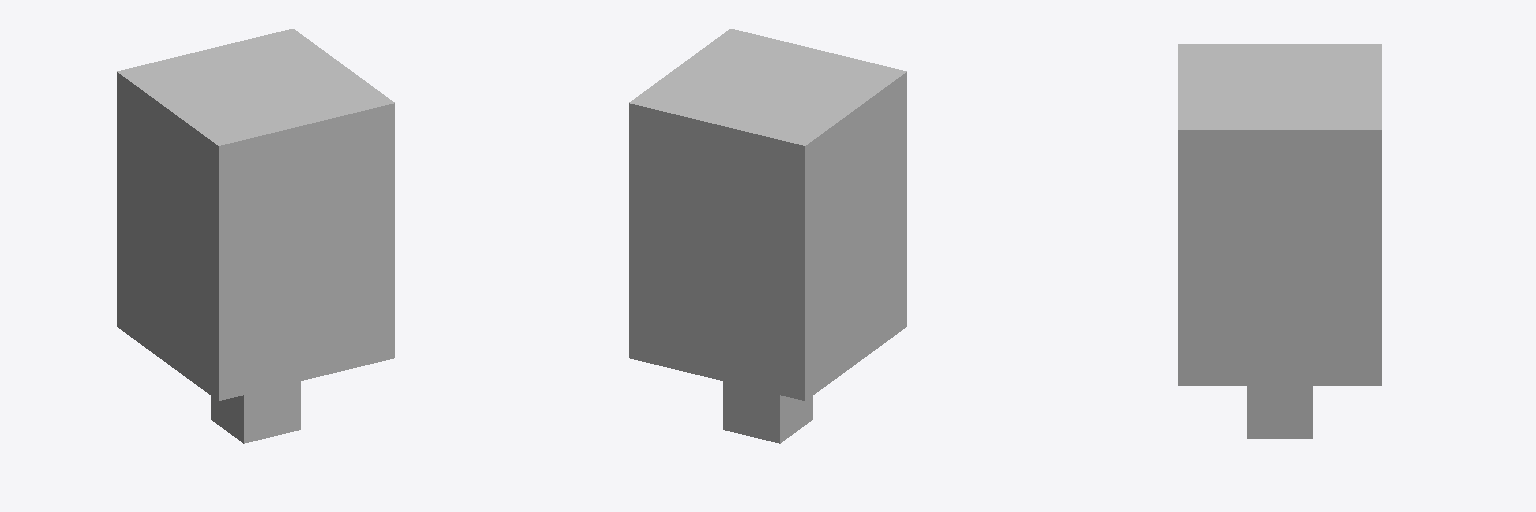
File: SM_Prop_RubbishBin_01.obj
3 renders of one model, left to right at view 1: azimuth 30°, elevation 25°; view 2: azimuth 150°, elevation 25°; view 3: azimuth 270°, elevation 25°, orthographic.
Parts seen in each view (by area): view 1: SM_Prop_RubbishBin_01:Mesh; view 2: SM_Prop_RubbishBin_01:Mesh; view 3: SM_Prop_RubbishBin_01:Mesh.
Part boxes in pixels (left/top/right/bottom): SM_Prop_RubbishBin_01:Mesh: left=117, top=29, right=394, bottom=443; SM_Prop_RubbishBin_01:Mesh: left=629, top=29, right=906, bottom=443; SM_Prop_RubbishBin_01:Mesh: left=1178, top=44, right=1381, bottom=438.
Bounding box in the file's own units: 1 × 1.82 × 1.